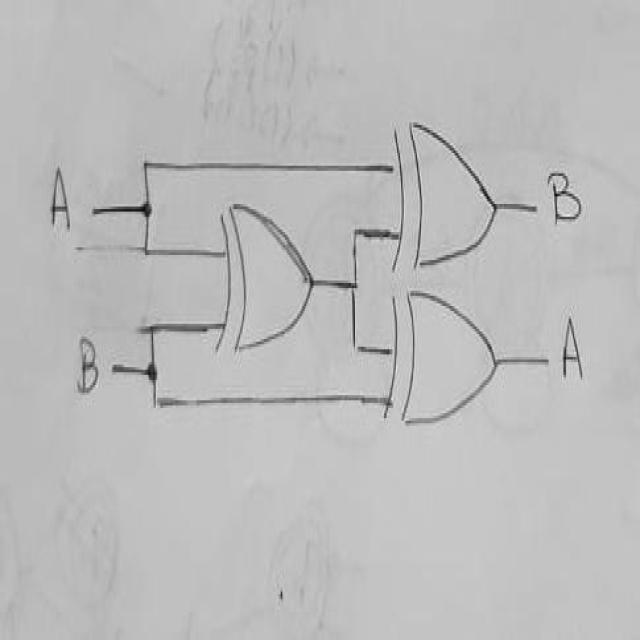XOR: (381, 110, 505, 274), (384, 286, 506, 446), (212, 199, 318, 368)
